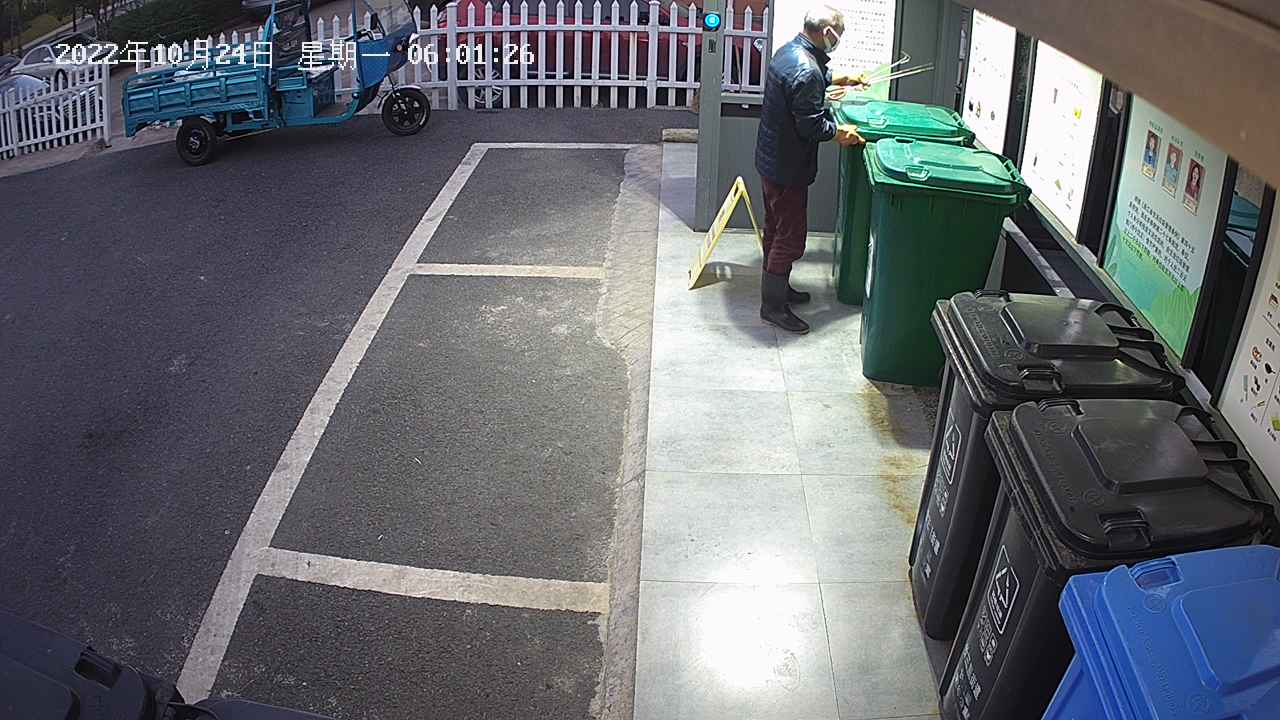person: (747, 1, 875, 340)
